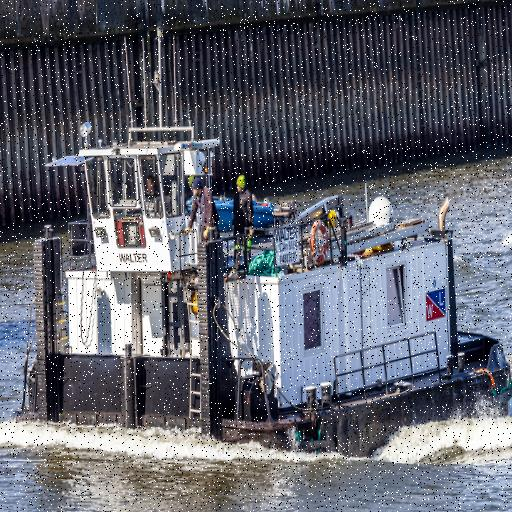tugboat: (12, 26, 512, 483)
